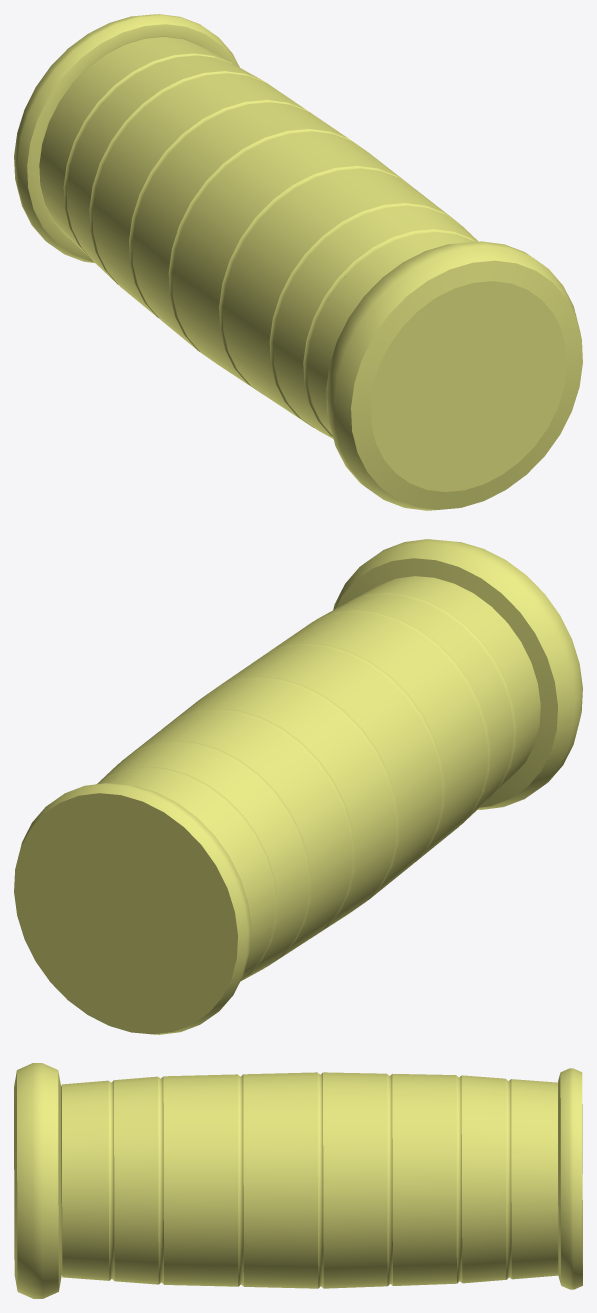
File: HandleGaz.fbx
3 views of the same model, one above another, from view 1: azimuth 30°, elevation 25°; view 2: azimuth 150°, elevation 25°; view 3: azimuth 270°, elevation 25° (orthographic). The views are drawn at different scales.
Parts seen in each view (by area): view 1: Steering.001; view 2: Steering.001; view 3: Steering.001.
Boxes of the visible parts, box(x1,y1,x2,y2) form: Steering.001: box(14, 14, 582, 510); Steering.001: box(14, 539, 582, 1034); Steering.001: box(14, 1063, 582, 1298).
Size of the model in its own units: 37.26 by 37.27 by 89.6.
